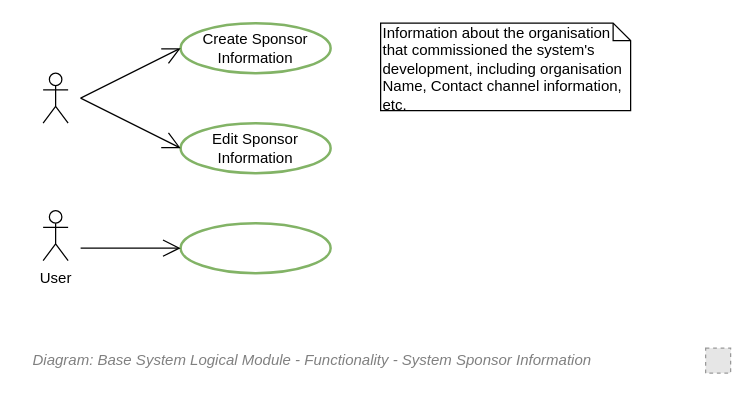
The diagram is 753 pixels wide and 395 high, and some of its shapes have lost their labels. Grey dashed boxes stand in for pictures. The shapes that lost their labels are listed below. From the top down, each one's box as (x1, y1, x2, y2) in pixels, then its label:
(42, 72, 68, 123): Developer
(179, 221, 331, 274): Read Sponsor Information
